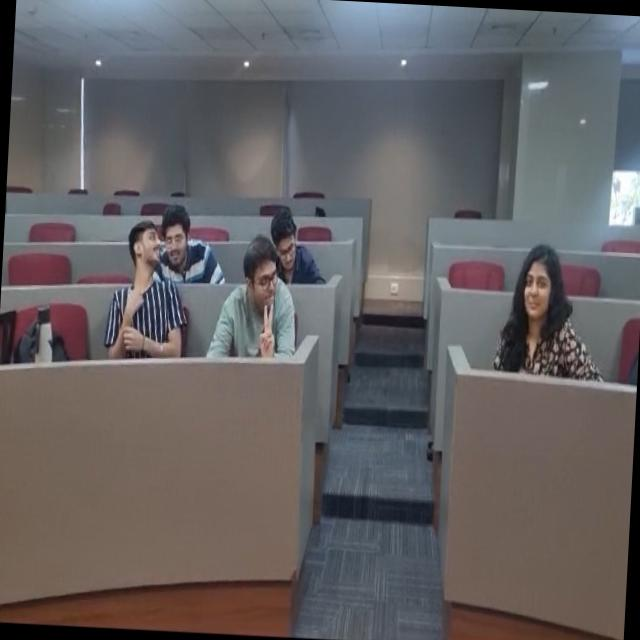cheating: (485, 256, 577, 361), (105, 210, 172, 348), (216, 237, 286, 350), (159, 196, 209, 283)
non-cheating: (256, 195, 324, 282)
